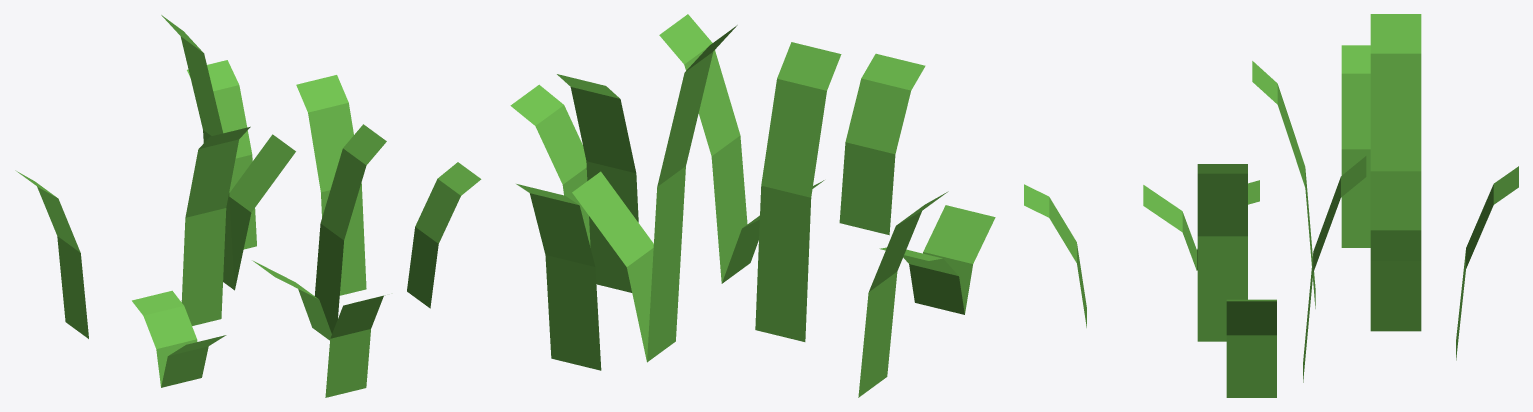
File: grass.glb
3 renders of one model, left to right at view 1: azimuth 30°, elevation 25°; view 2: azimuth 150°, elevation 25°; view 3: azimuth 270°, elevation 25°, orthographic. The views are drawn at different scales.
Visible parts, largest first — view 1: grass; view 2: grass; view 3: grass.
Part boxes in pixels (bbox=[...]): grass: bbox=[15, 15, 481, 397]; grass: bbox=[510, 14, 995, 397]; grass: bbox=[1024, 14, 1518, 397].
Bounding box in the file's own units: 1.52 × 1.02 × 1.57.
